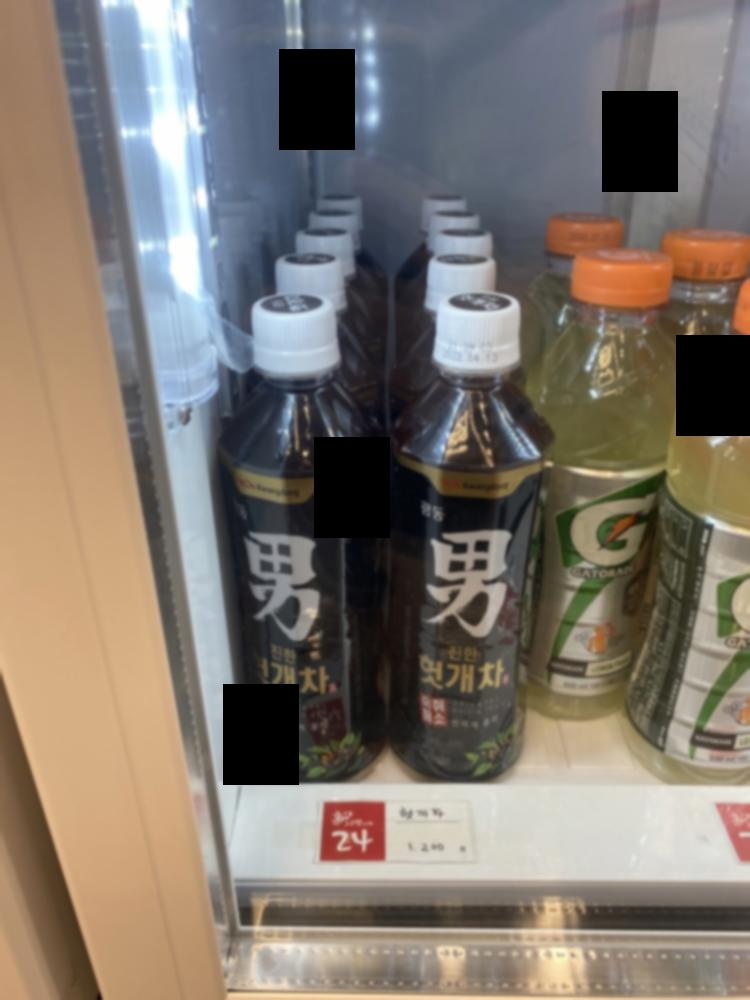heotgaecha: (386, 293, 551, 784), (211, 295, 359, 790)
